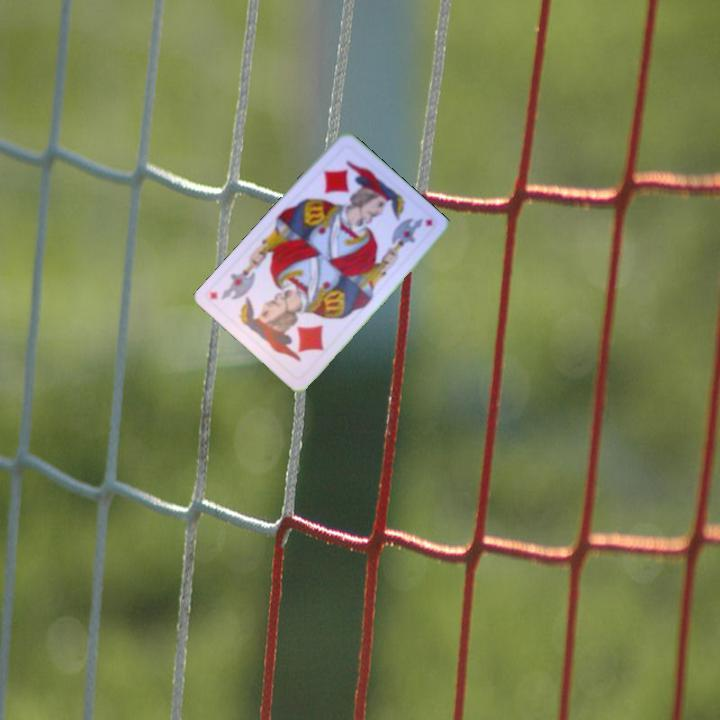d_j.png: (307, 141, 393, 227), (250, 296, 336, 382)
